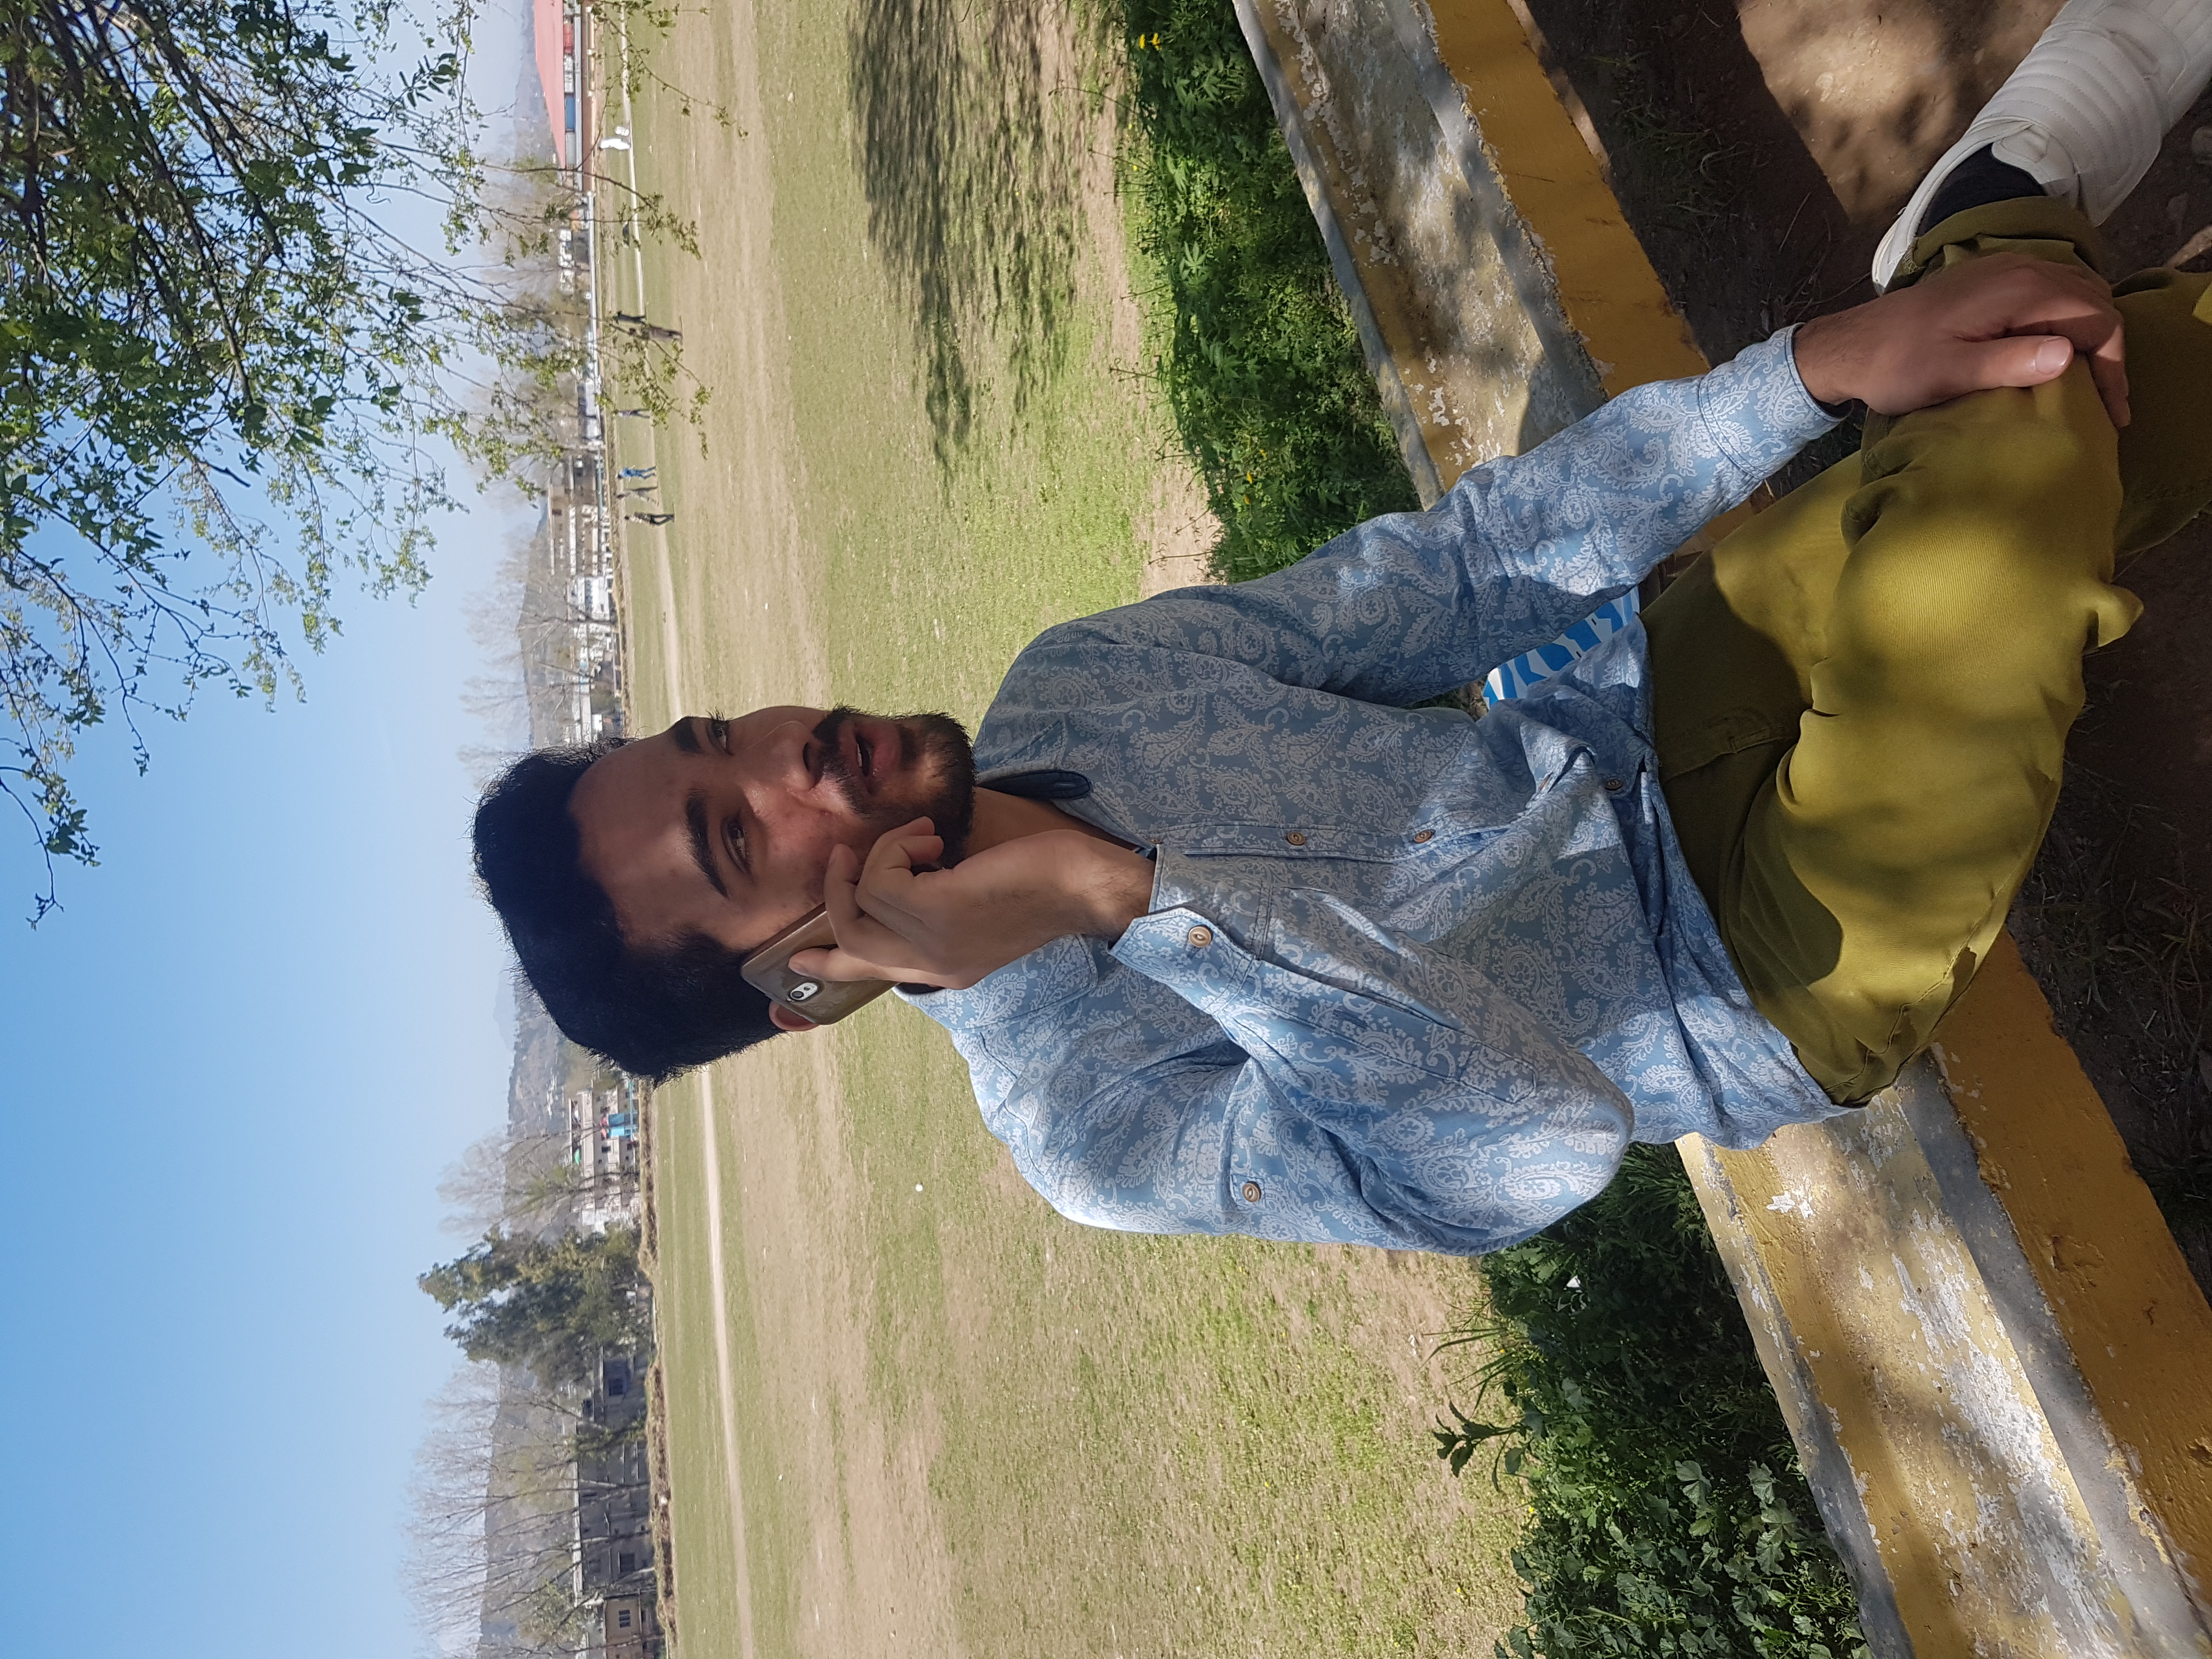face: (487, 702, 995, 933)
mobile: (730, 921, 899, 1016)
